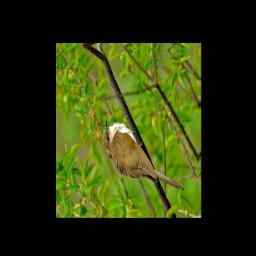Cuckoo: (101, 118, 187, 192)
